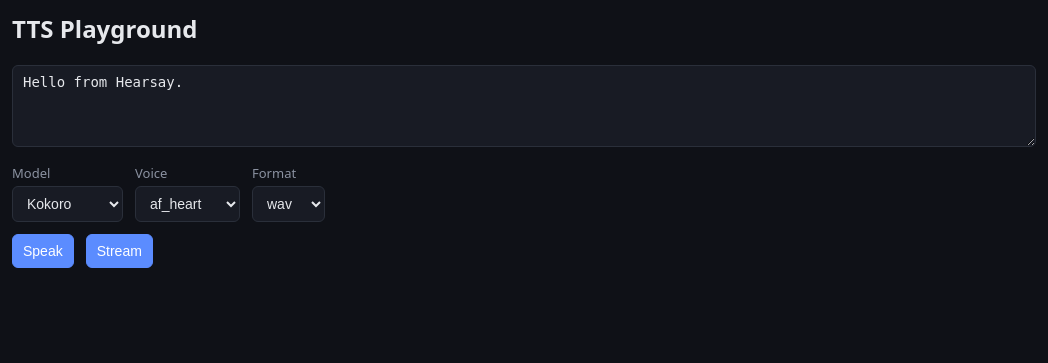
Test: TtsPlayground › generates audio, shows a player, and auto-plays it
Click the button "Speak" at (43, 251), box [12,234,74,268]
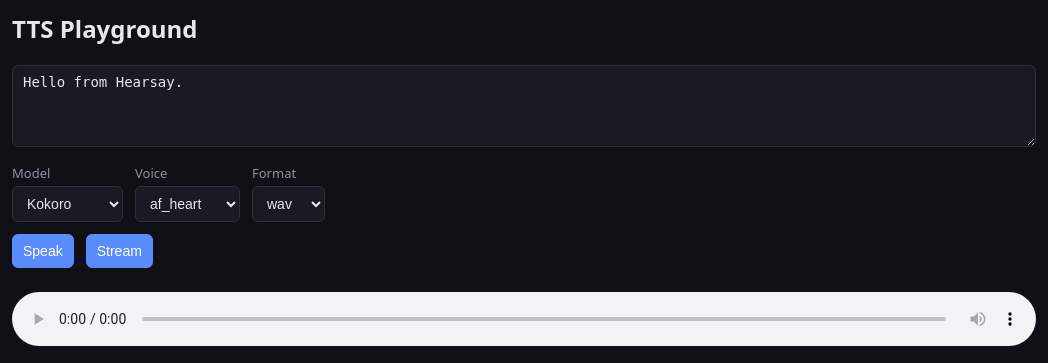
Result: the element with test id "audio-player" is shown at [12,292,1036,346]
